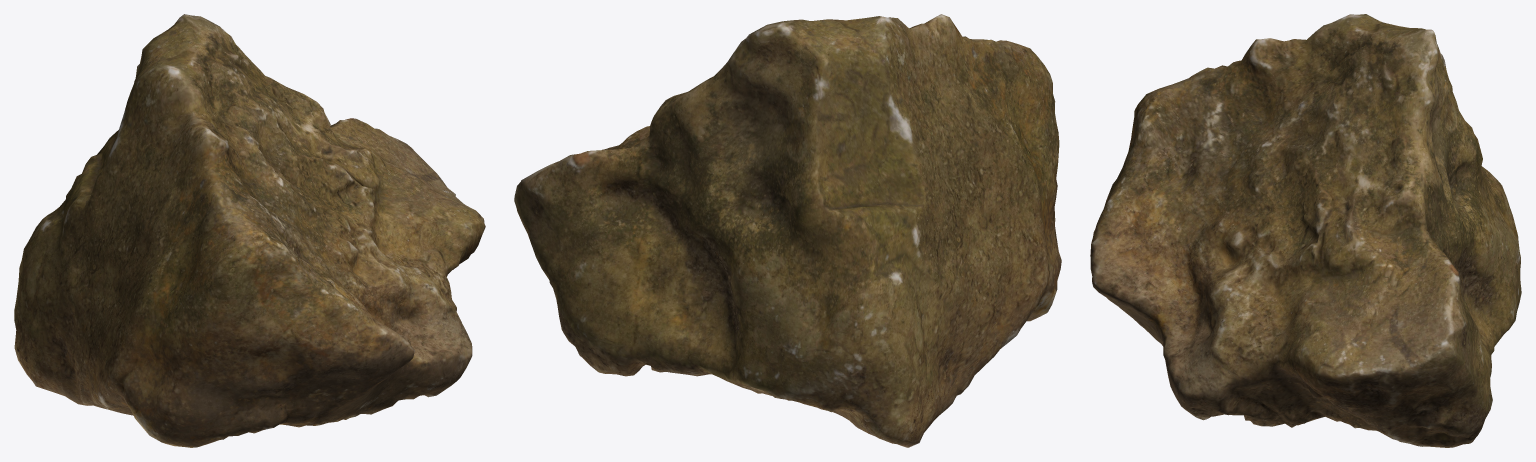
File: Roccia2.fbx
The picture shows the model from 3 angles, left to right: view 1: azimuth 30°, elevation 25°; view 2: azimuth 150°, elevation 25°; view 3: azimuth 270°, elevation 25°; orthographic projection. The views are drawn at different scales.
Parts seen in each view (by area): view 1: moss rock 05; view 2: moss rock 05; view 3: moss rock 05.
Boxes of the visible parts, x1,y1,x2,y2 form: moss rock 05: (14,14,485,447); moss rock 05: (514,14,1061,447); moss rock 05: (1090,14,1521,447).
Bounding box in the file's own units: 145 × 120 × 134.
